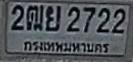2: (66, 6, 80, 32), (10, 4, 24, 30), (97, 8, 110, 33), (112, 8, 125, 33)
7: (83, 6, 95, 32)
A18: (26, 4, 43, 31)
A34: (45, 5, 61, 32)
BKK: (23, 38, 111, 57)
